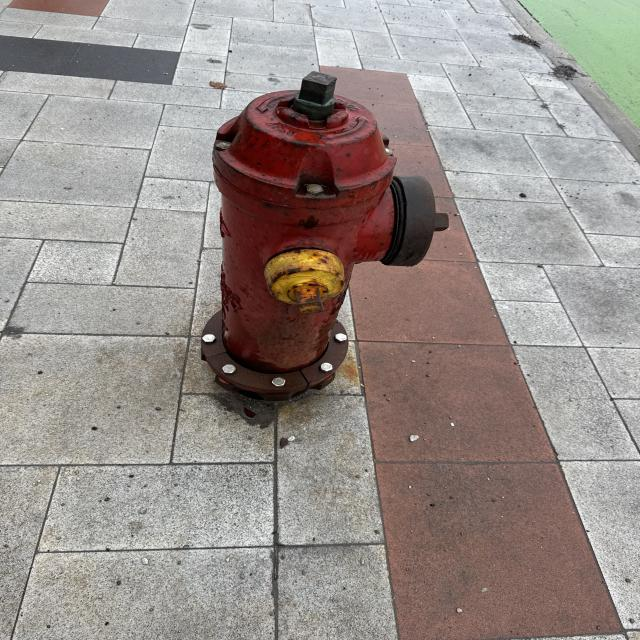Fire hydrant: (198, 71, 451, 403)
